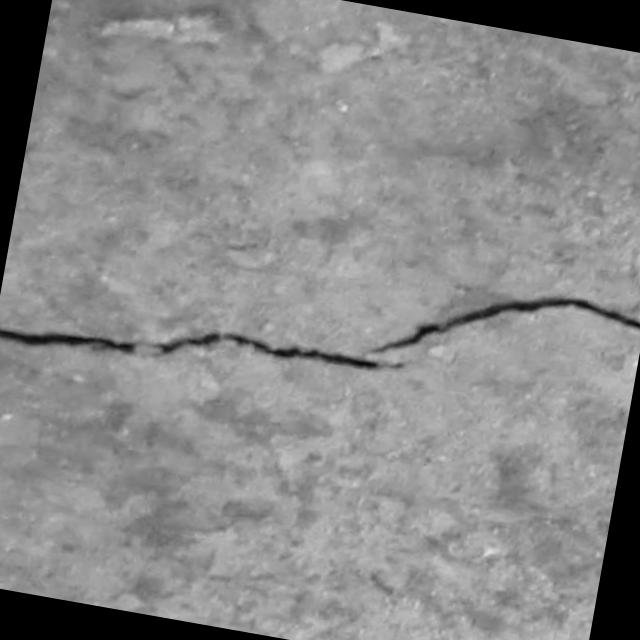crack: (0, 193, 640, 452)
